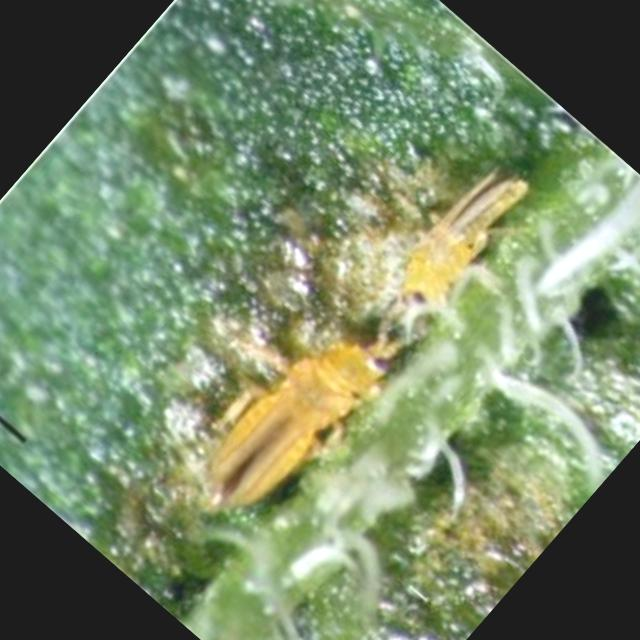melon thrips: (119, 268, 460, 613), (350, 116, 596, 370)
